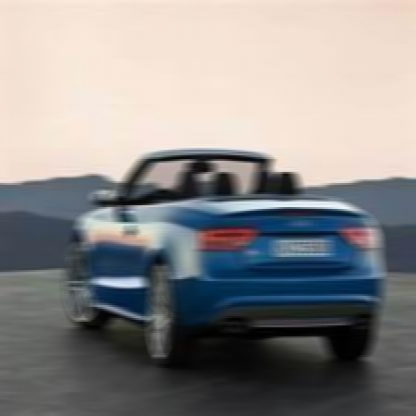Vehicle: (70, 150, 382, 366)
